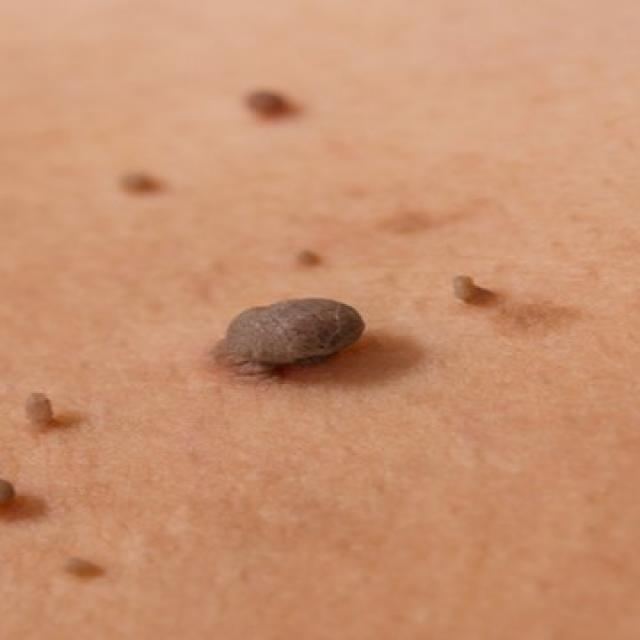wart: (210, 295, 366, 377), (234, 72, 294, 132), (110, 160, 171, 213), (12, 378, 57, 442), (441, 260, 482, 306), (284, 238, 326, 272), (0, 478, 30, 512)
